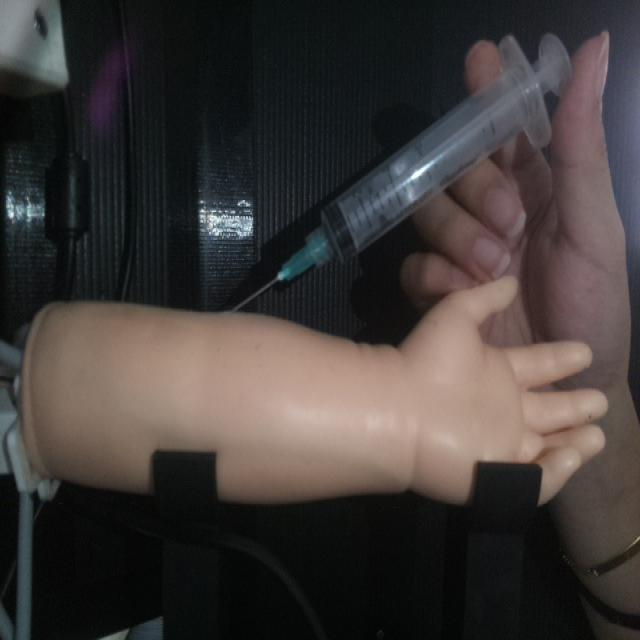Outside: (226, 28, 577, 316)
